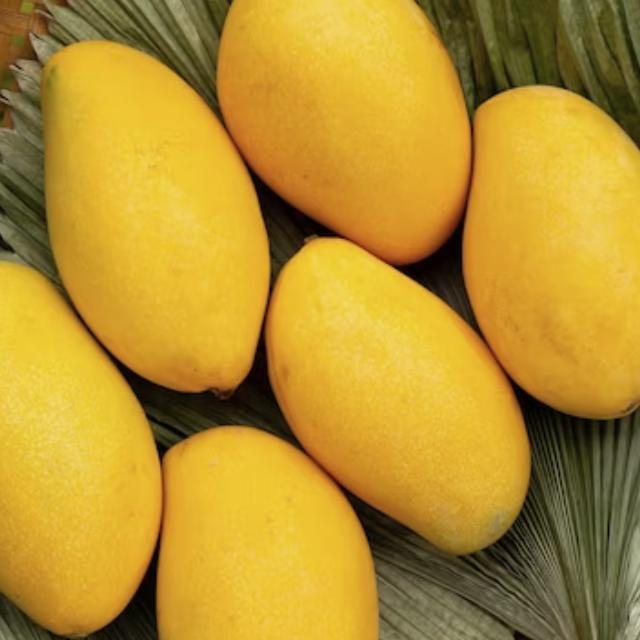mango: (271, 229, 537, 557), (38, 39, 268, 397), (220, 0, 470, 270), (0, 256, 162, 640), (459, 83, 640, 422)
